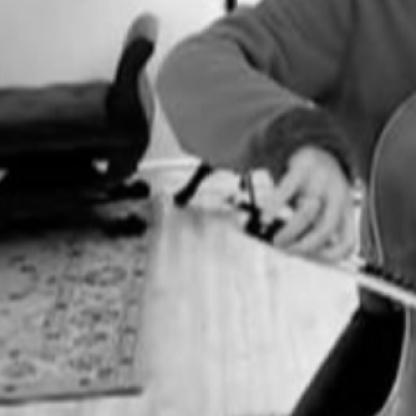good: (249, 136, 359, 266)
